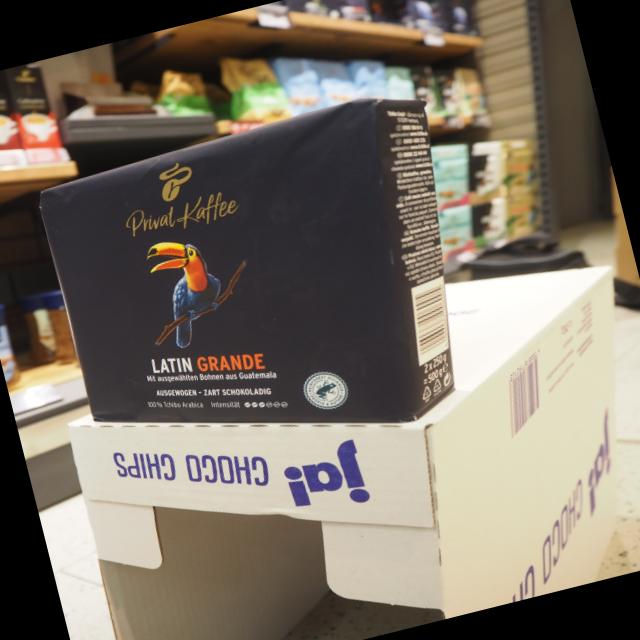LG Gemahlen: (36, 93, 415, 424)
